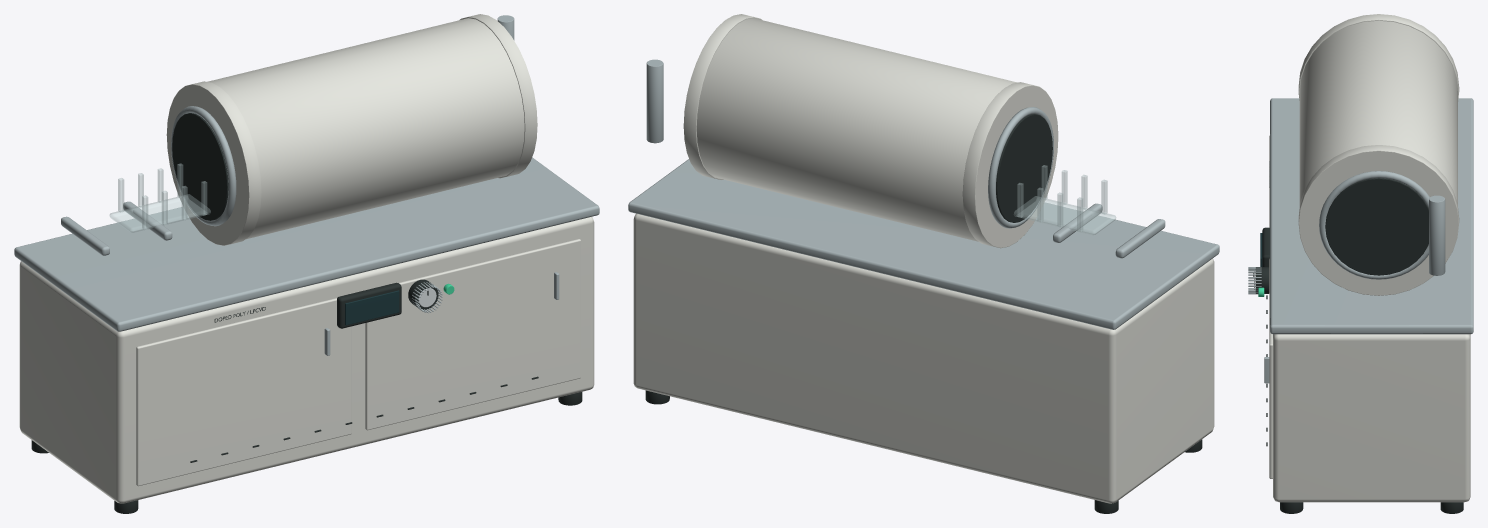
File: poly-cvd.glb
The picture shows the model from 3 angles, left to right: view 1: azimuth 30°, elevation 25°; view 2: azimuth 150°, elevation 25°; view 3: azimuth 270°, elevation 25°; orthographic projection. The views are drawn at different scales.
Visible parts, largest first — view 1: Equipment_poly-cvd_Ceramic ivory, Shell.001_Ceramic ivory, Equipment_poly-cvd_Brushed stainless, Equipment_poly-cvd_Knurled graphite, Carriage.003_Quartz inspection, LCD.004; view 2: Equipment_poly-cvd_Ceramic ivory, Shell.001_Ceramic ivory, Equipment_poly-cvd_Brushed stainless, Equipment_poly-cvd_Knurled graphite, Carriage.003_Quartz inspection; view 3: Equipment_poly-cvd_Ceramic ivory, Equipment_poly-cvd_Brushed stainless, Shell.001_Ceramic ivory, Equipment_poly-cvd_Knurled graphite, Knob_main.004.
Part boxes in pixels (box(x1,y1,x2,y2)): Equipment_poly-cvd_Ceramic ivory: box(19, 14, 594, 503); Shell.001_Ceramic ivory: box(207, 18, 524, 239); Equipment_poly-cvd_Brushed stainless: box(14, 15, 599, 355); Equipment_poly-cvd_Knurled graphite: box(31, 113, 582, 513); Carriage.003_Quartz inspection: box(109, 163, 210, 232); LCD.004: box(345, 290, 399, 325); Equipment_poly-cvd_Ceramic ivory: box(633, 14, 1214, 503); Shell.001_Ceramic ivory: box(696, 18, 1017, 241); Equipment_poly-cvd_Brushed stainless: box(628, 59, 1219, 329); Equipment_poly-cvd_Knurled graphite: box(645, 114, 1202, 513); Carriage.003_Quartz inspection: box(1014, 165, 1116, 235); Equipment_poly-cvd_Ceramic ivory: box(1269, 14, 1470, 502); Equipment_poly-cvd_Brushed stainless: box(1248, 98, 1473, 383); Shell.001_Ceramic ivory: box(1299, 20, 1457, 205); Equipment_poly-cvd_Knurled graphite: box(1253, 161, 1463, 513); Knob_main.004: box(1255, 267, 1269, 293).
Size of the model in its own units: 2.33 by 1.63 by 0.9685.
